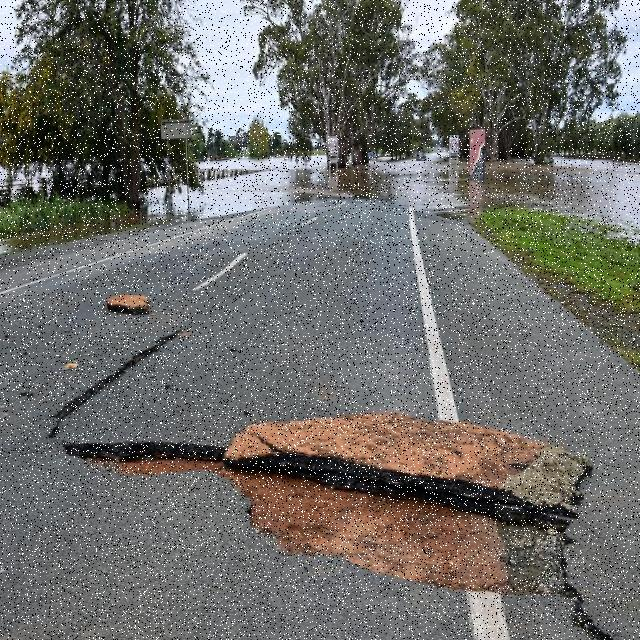pothole: (69, 413, 590, 606)
